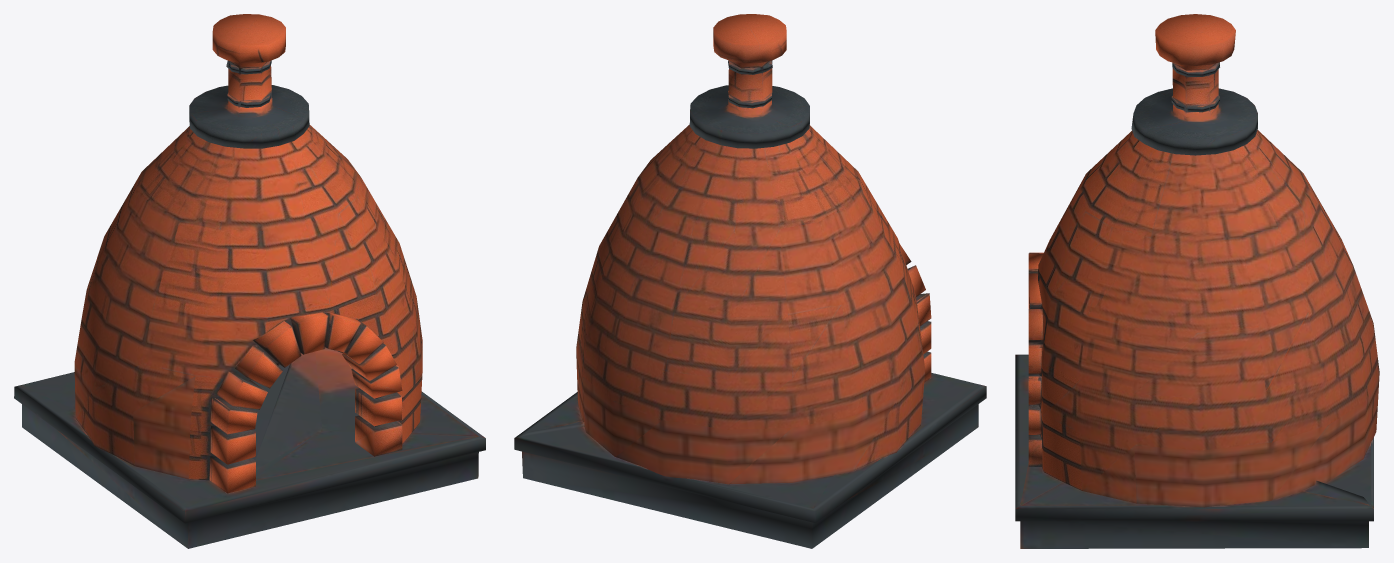
File: hills-kiln.glb
The picture shows the model from 3 angles, left to right: view 1: azimuth 30°, elevation 25°; view 2: azimuth 150°, elevation 25°; view 3: azimuth 270°, elevation 25°; orthographic projection. The views are drawn at different scales.
Bounding box in the file's own units: 0.7183 × 0.9521 × 0.7061.
Materials: 1 (1 with a texture image).
